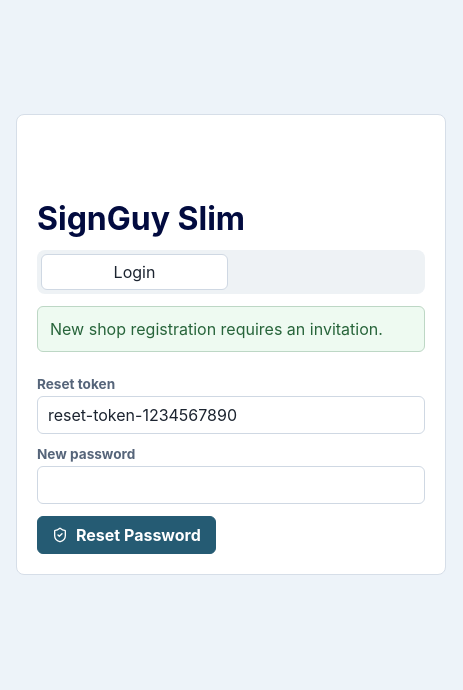
Test: Part 2 UI › renders password reset links even when a valid session cookie exists
Type "newpassword123" into the password field labelled "New password" at point(231, 484), box [37, 466, 425, 504]
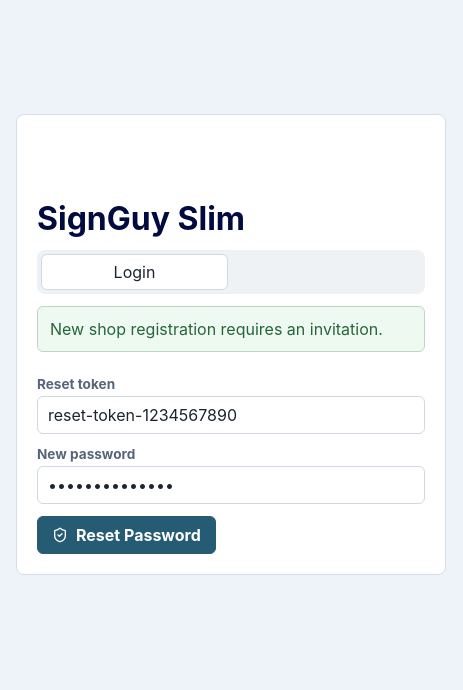
Click the button "Reset Password" at point(126, 534), box [37, 516, 216, 554]
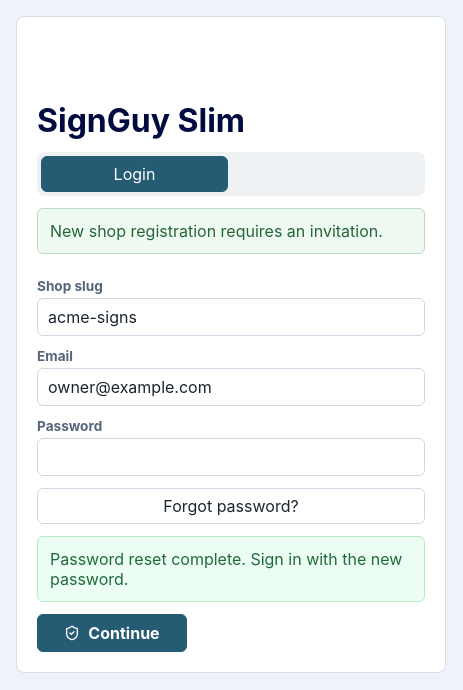
Expected: the text "Password reset complete. Sign in with the new password." is shown, [37, 536, 425, 602]
